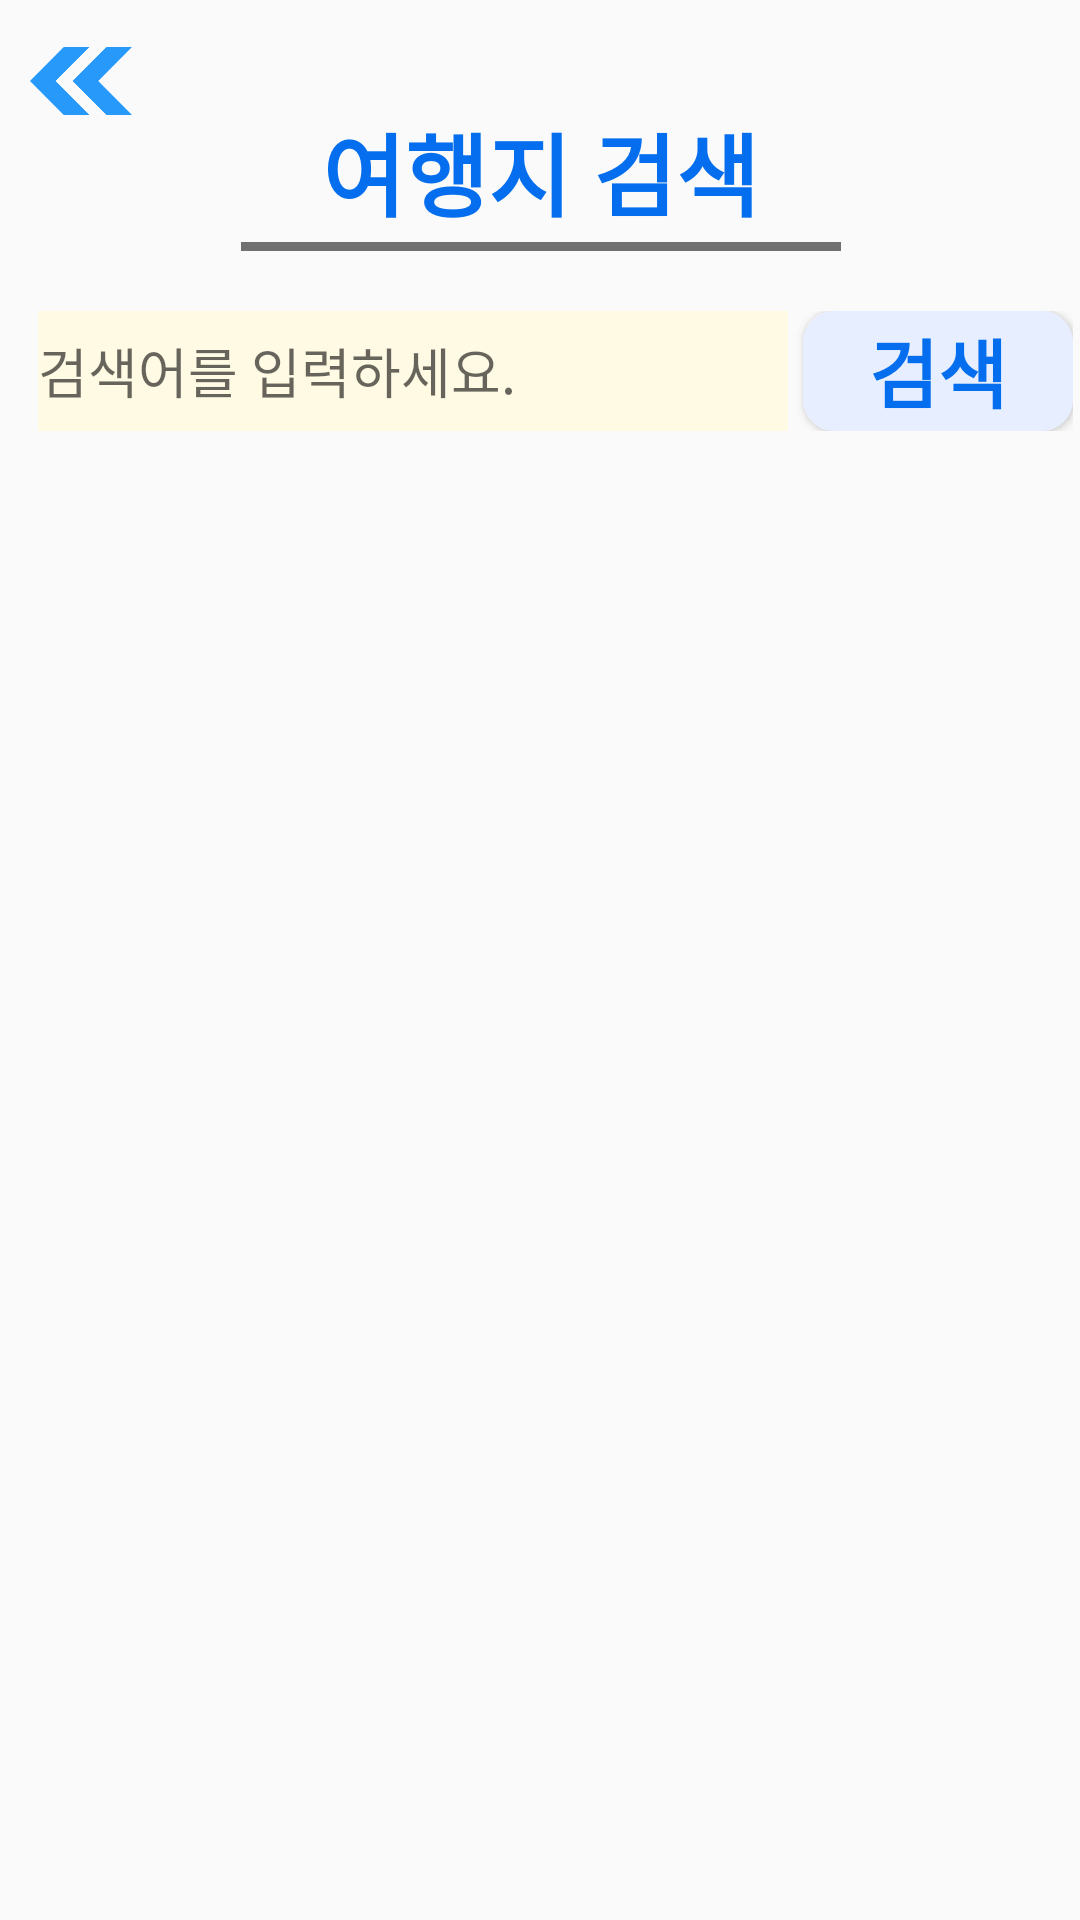

Where to tap for icons on this 1080×1920 app screen, as [x,y]:
double arrow: [81,81]
